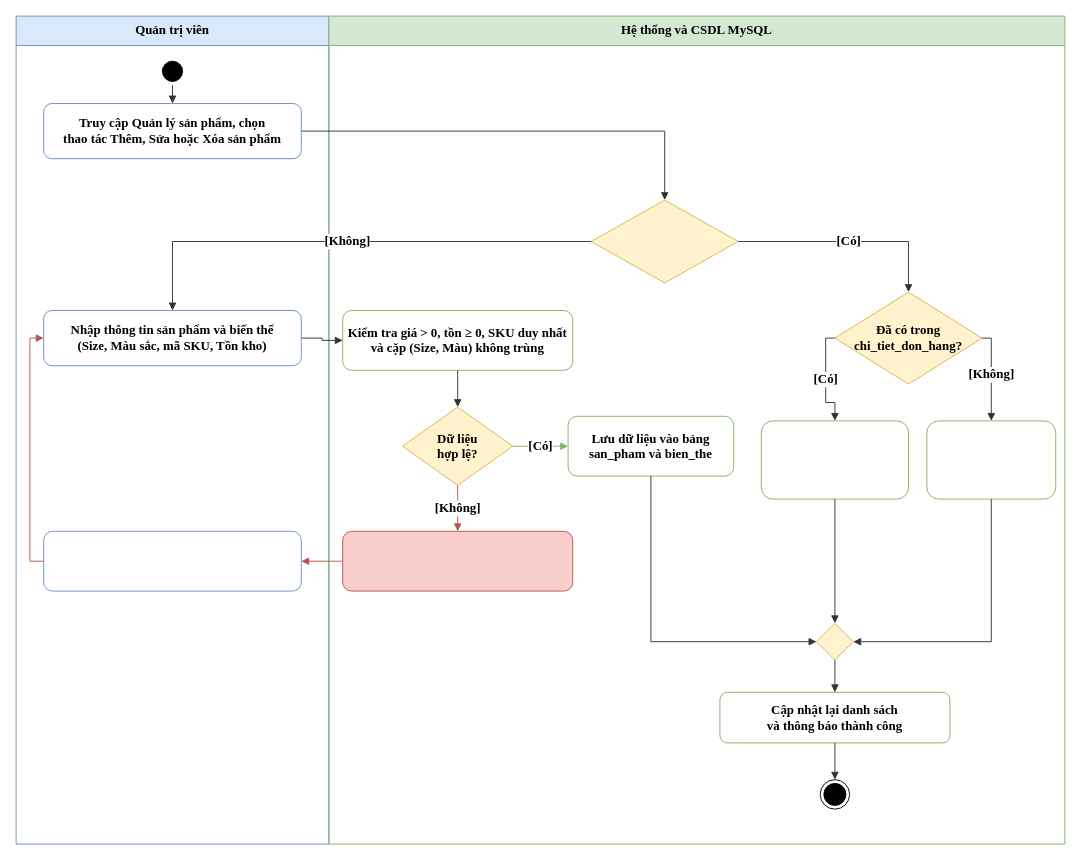
Image size: 1081x860. Some labels were removed from this diagram. The shapes that lost their labels are listed below. From the top down, each one's centre as x and y in pixels, then its label:
At (x=664, y=241): "Thao tác xóa?".
At (x=834, y=459): "Cập nhật NGUNG_KINH_DOANH (xóa mềm, giữ lịch sử hóa đơn)".
At (x=991, y=459): "Xóa bản ghi sản phẩm và biến thể khỏi CSDL".
At (x=172, y=560): "Điều chỉnh lại mã SKU, tổ hợp biến thể hoặc giá trị số hợp lệ".
At (x=457, y=560): "Báo lỗi trùng SKU hoặc dữ liệu không hợp lệ".
